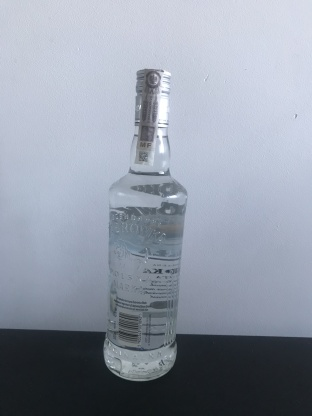nakretka: (132, 64, 173, 130)
